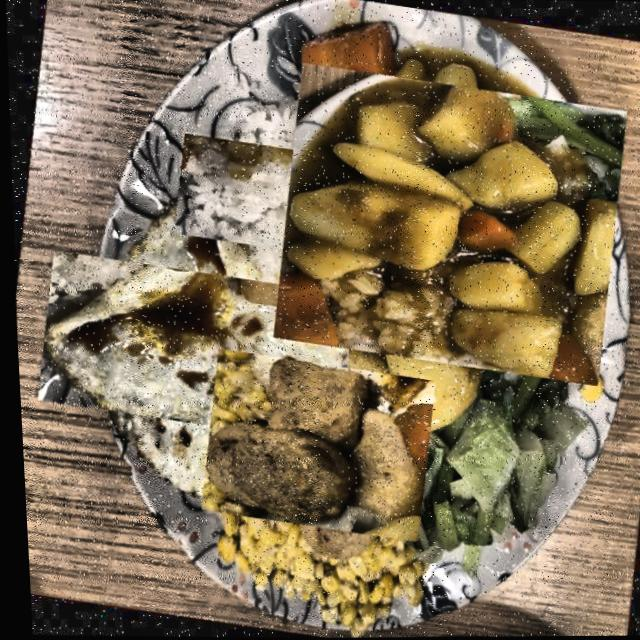Food: (266, 49, 628, 399), (56, 216, 328, 479), (199, 335, 428, 556), (186, 109, 369, 286)
